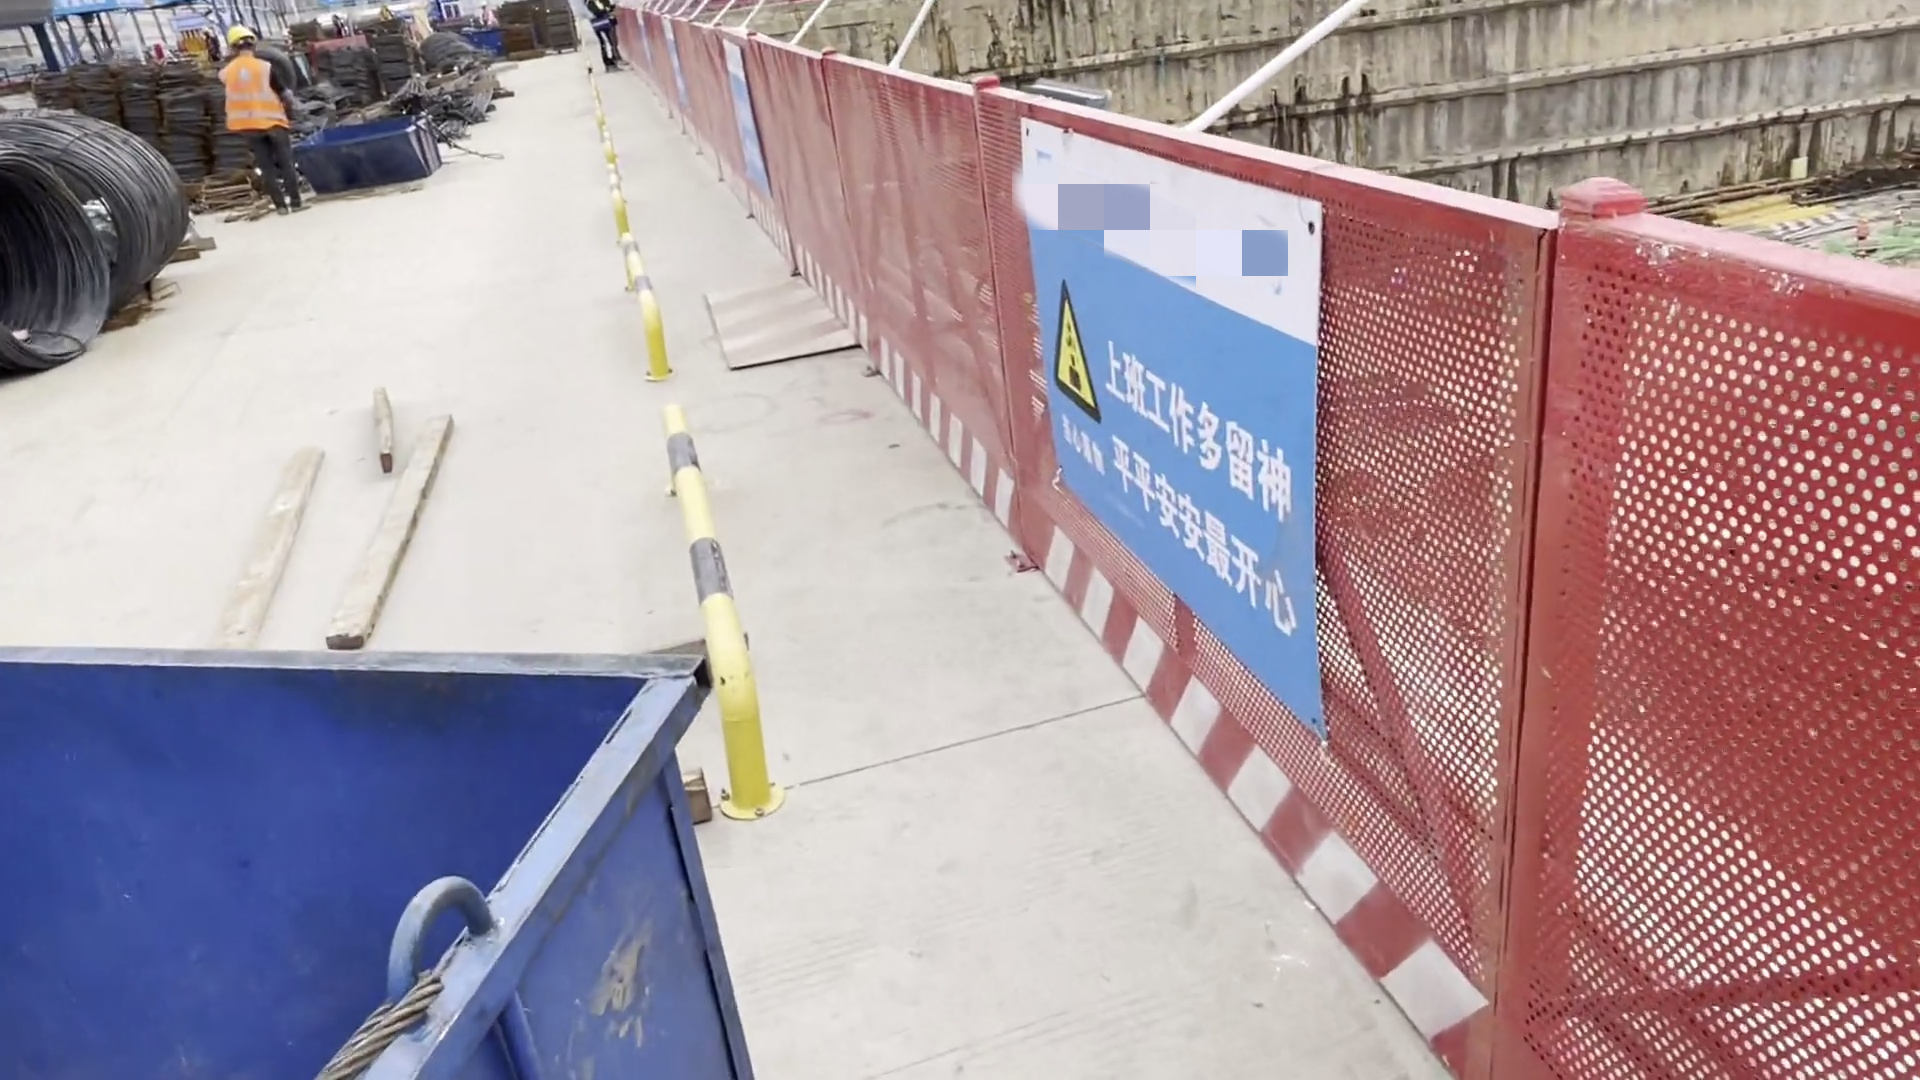fence: (789, 35, 1920, 1080)
helmet: (227, 19, 266, 51)
hopper: (1, 656, 737, 1080), (301, 121, 435, 189)
person: (217, 17, 302, 220), (584, 1, 632, 65)
slogan: (1015, 119, 1345, 749)
vest: (218, 48, 285, 129), (587, 2, 612, 30)
